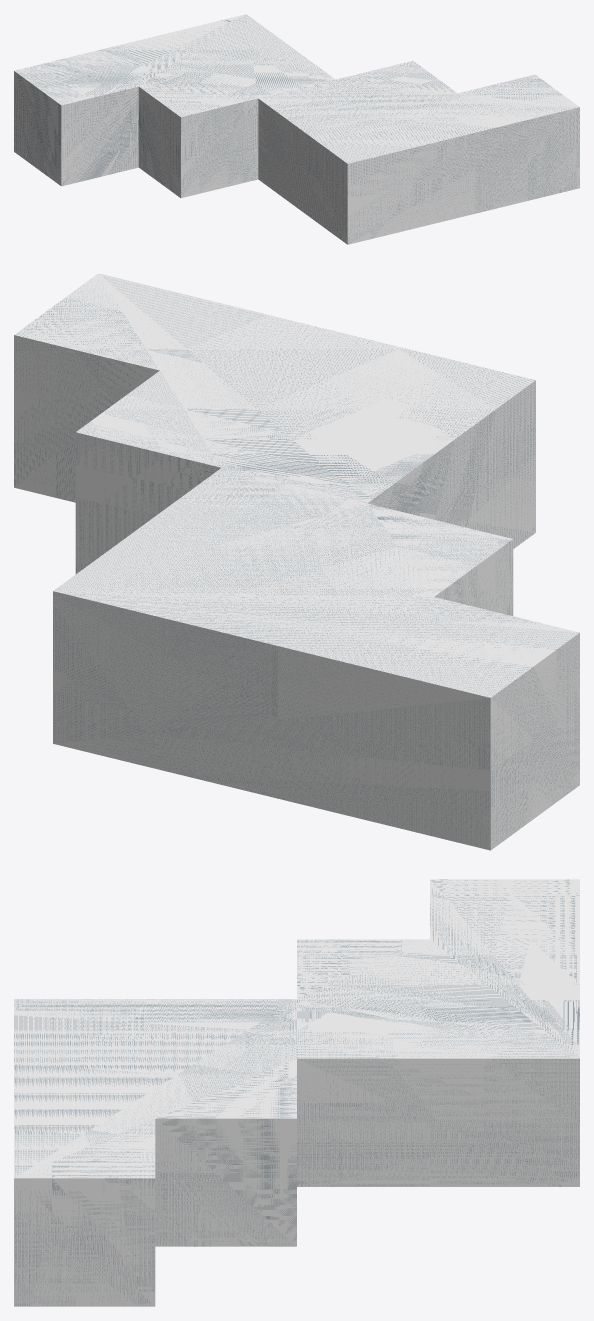
Rendered from keyFrag1.fbx.
3 views of the same model, one above another, from view 1: azimuth 30°, elevation 25°; view 2: azimuth 150°, elevation 25°; view 3: azimuth 270°, elevation 25° (orthographic). The views are drawn at different scales.
Parts seen in each view (by area): view 1: Model; view 2: Model; view 3: Model.
Boxes of the visible parts, x1,y1,x2,y2 form: Model: [14, 14, 579, 244]; Model: [14, 273, 579, 850]; Model: [14, 879, 579, 1306].
Size of the model in its own units: 125 by 25 by 100.
